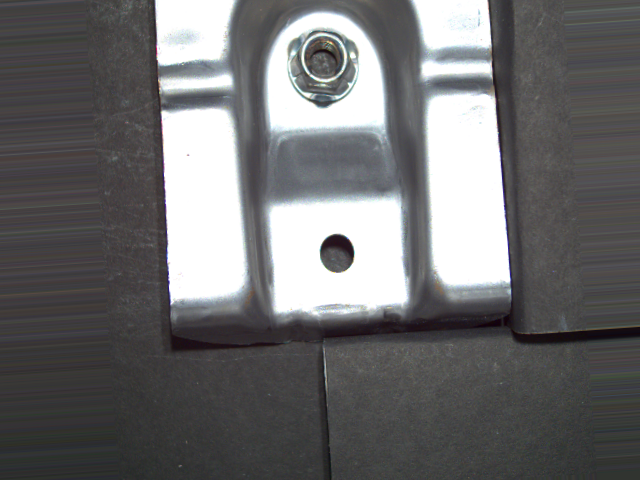good: (285, 24, 365, 112)
